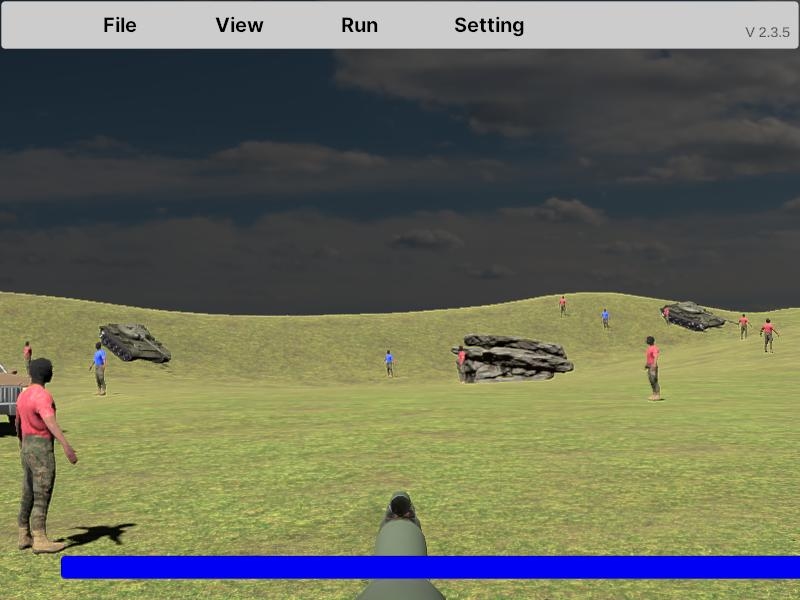Human: (16, 355, 77, 555), (644, 335, 661, 402)
Tank: (98, 321, 171, 364), (661, 301, 733, 331)
car: (0, 345, 42, 435)
